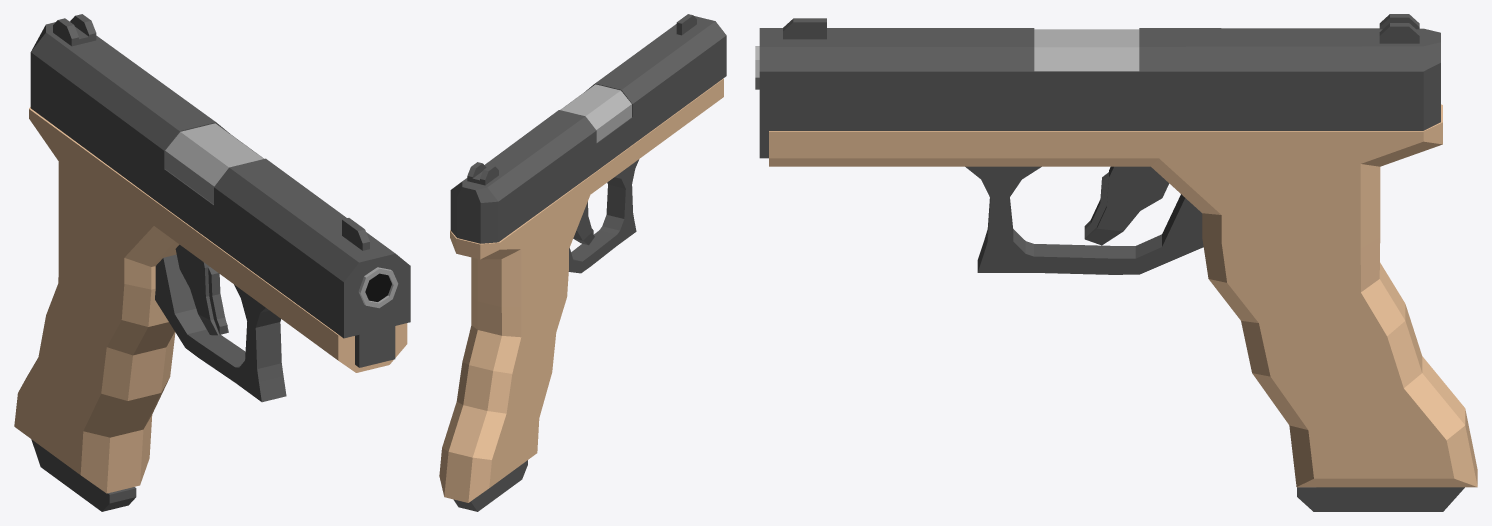
File: pistol.glb
The picture shows the model from 3 angles, left to right: view 1: azimuth 30°, elevation 25°; view 2: azimuth 150°, elevation 25°; view 3: azimuth 270°, elevation 25°; orthographic projection. The views are drawn at different scales.
Parts seen in each view (by area): view 1: MS_Pistol_Body, MS_Pistol_Slide, MS_Pistol_Trigger, MS_Pistol_Magazine; view 2: MS_Pistol_Body, MS_Pistol_Slide, MS_Pistol_Magazine, MS_Pistol_Trigger; view 3: MS_Pistol_Body, MS_Pistol_Slide, MS_Pistol_Trigger, MS_Pistol_Magazine.
Part boxes in pixels (x1=…): MS_Pistol_Body: x1=14, y1=107, x2=407, y2=493; MS_Pistol_Slide: x1=30, y1=14, x2=410, y2=367; MS_Pistol_Trigger: x1=175, y1=244, x2=228, y2=335; MS_Pistol_Magazine: x1=31, y1=439, x2=136, y2=511; MS_Pistol_Body: x1=439, y1=78, x2=723, y2=502; MS_Pistol_Slide: x1=450, y1=14, x2=726, y2=243; MS_Pistol_Magazine: x1=453, y1=460, x2=527, y2=511; MS_Pistol_Trigger: x1=573, y1=201, x2=594, y2=245; MS_Pistol_Body: x1=755, y1=29, x2=1477, y2=487; MS_Pistol_Slide: x1=759, y1=14, x2=1440, y2=158; MS_Pistol_Trigger: x1=1084, y1=166, x2=1168, y2=245; MS_Pistol_Magazine: x1=1297, y1=487, x2=1464, y2=511.
Size of the model in its own units: 0.0404 by 0.2569 by 0.347.
Materials: 1 (1 with a texture image).
